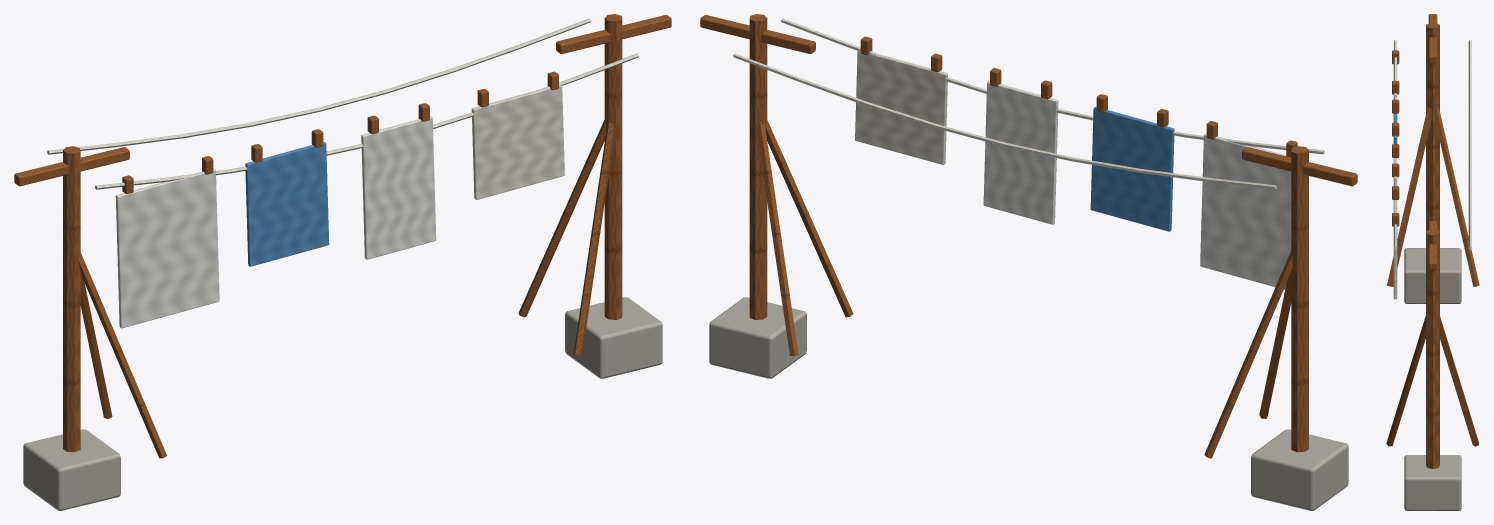
Rendered from laundry.glb.
The picture shows the model from 3 angles, left to right: view 1: azimuth 30°, elevation 25°; view 2: azimuth 150°, elevation 25°; view 3: azimuth 270°, elevation 25°; orthographic projection. The views are drawn at different scales.
Visible parts, largest first — view 1: laundry-line-frame; view 2: laundry-line-frame; view 3: laundry-line-frame.
Part boxes in pixels (bbox=[...]): laundry-line-frame: bbox=[14, 14, 671, 510]; laundry-line-frame: bbox=[700, 14, 1357, 510]; laundry-line-frame: bbox=[1386, 14, 1479, 510].
Bounding box in the file's own units: 4.1 × 2.05 × 0.6487.
Materials: 5 (5 with a texture image).
